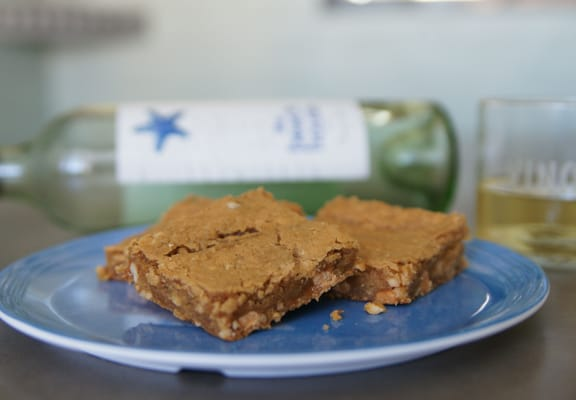pizza: (474, 96, 576, 268)
